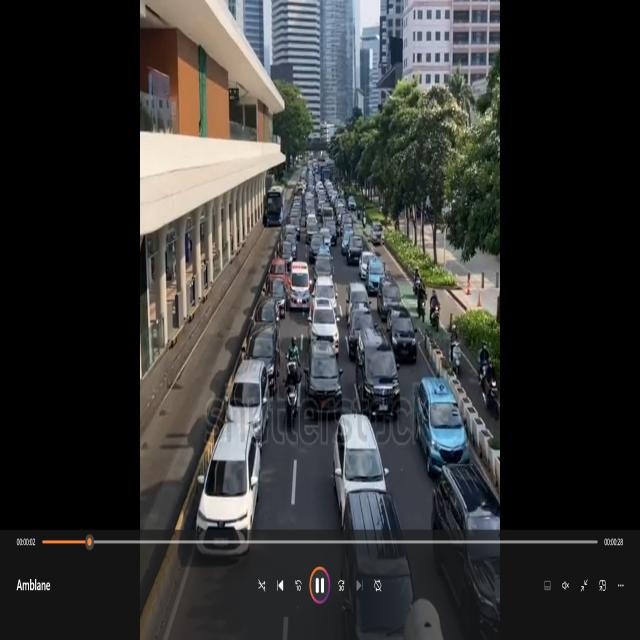Ambulance: (289, 255, 314, 314)
